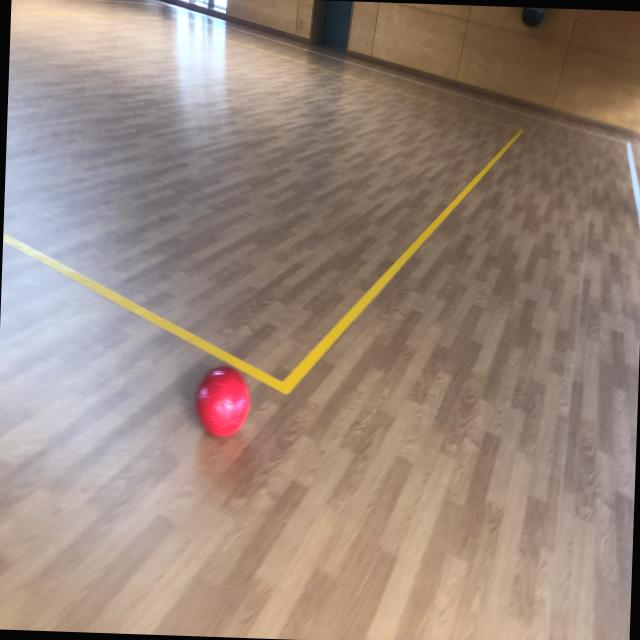red_ball: (194, 364, 248, 436)
